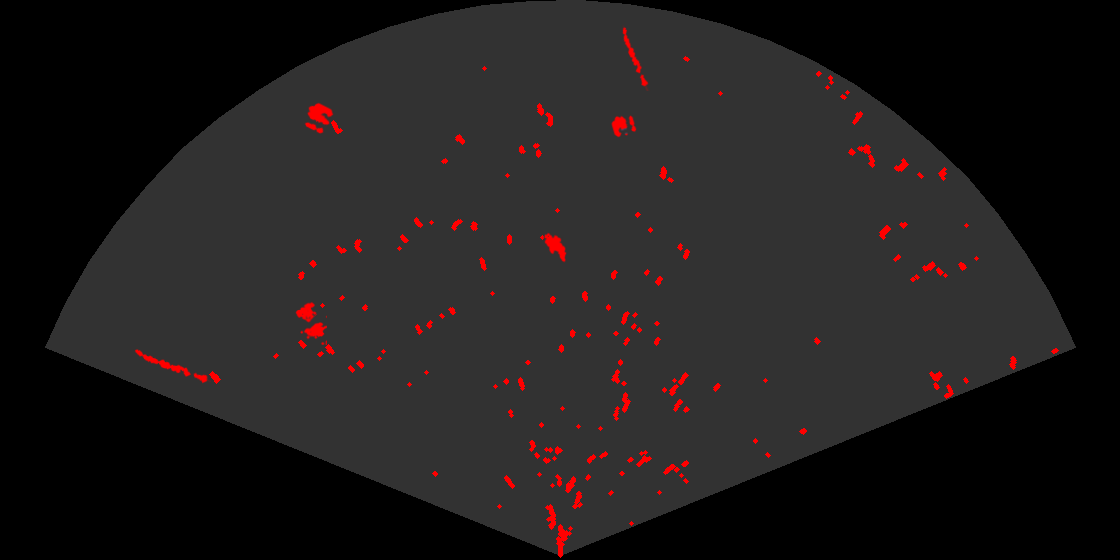AUV: (543, 231, 568, 264)
ball: (303, 101, 335, 135), (610, 114, 638, 139)
cage: (294, 300, 327, 345)
chain: (133, 348, 211, 385), (621, 24, 651, 91)
